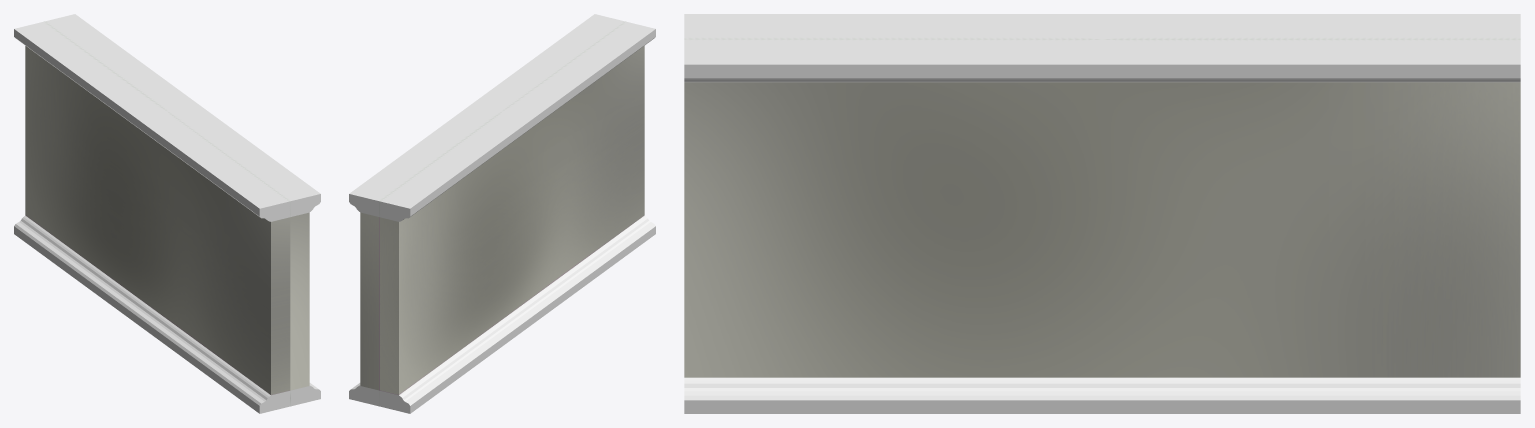
Rendered from Wall.fbx.
3 renders of one model, left to right at view 1: azimuth 30°, elevation 25°; view 2: azimuth 150°, elevation 25°; view 3: azimuth 270°, elevation 25°, orthographic. The views are drawn at different scales.
Parts seen in each view (by area): view 1: Cube; view 2: Cube; view 3: Cube.
Part boxes in pixels (bbox=[...]): Cube: bbox=[14, 14, 320, 413]; Cube: bbox=[349, 14, 655, 413]; Cube: bbox=[684, 14, 1520, 413].
Size of the model in its own units: 201 by 645 by 1400.
